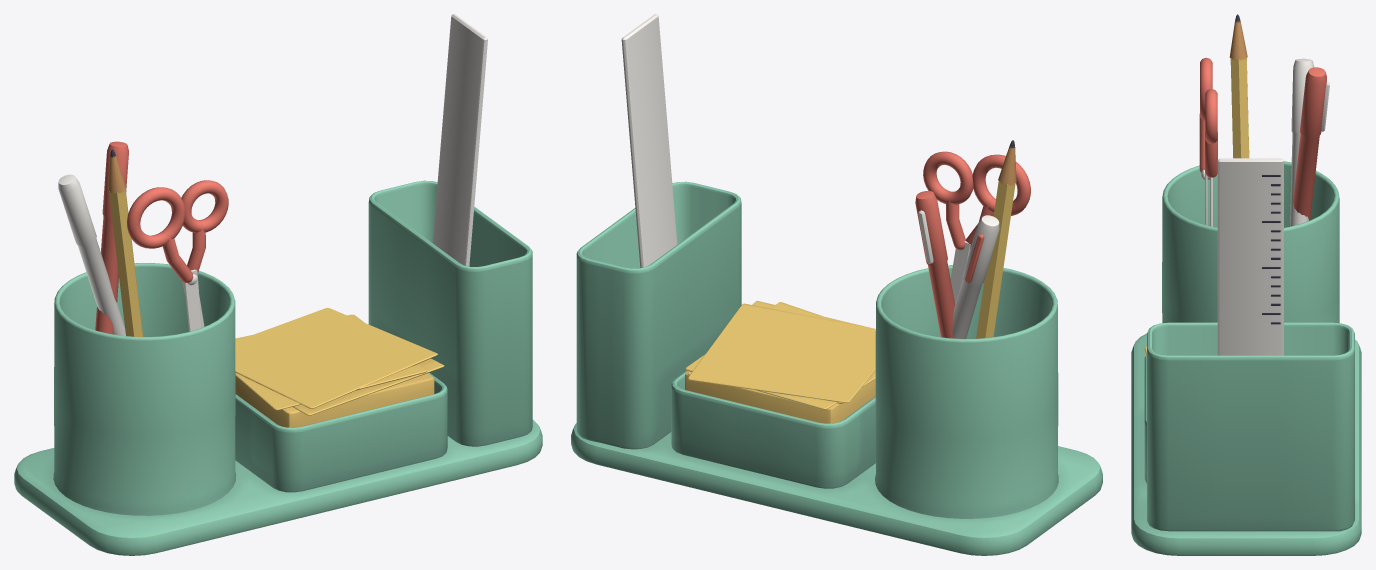
Rendered from desk-organizer.glb.
3 renders of one model, left to right at view 1: azimuth 30°, elevation 25°; view 2: azimuth 150°, elevation 25°; view 3: azimuth 270°, elevation 25°, orthographic. The views are drawn at different scales.
Visible parts, largest first — view 1: desk-organizer_body; view 2: desk-organizer_body; view 3: desk-organizer_body.
Part boxes in pixels (x1,y1,x2,y2): desk-organizer_body: (14, 14, 542, 555); desk-organizer_body: (571, 14, 1102, 555); desk-organizer_body: (1131, 14, 1361, 555).
Bounding box in the file's own units: 0.228 × 0.1914 × 0.104.
Materials: 1 (1 with a texture image).
